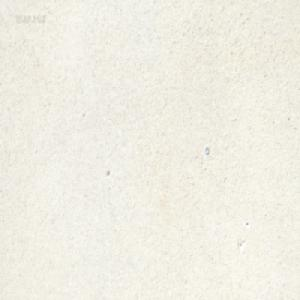Washer: (204, 146, 209, 155)
